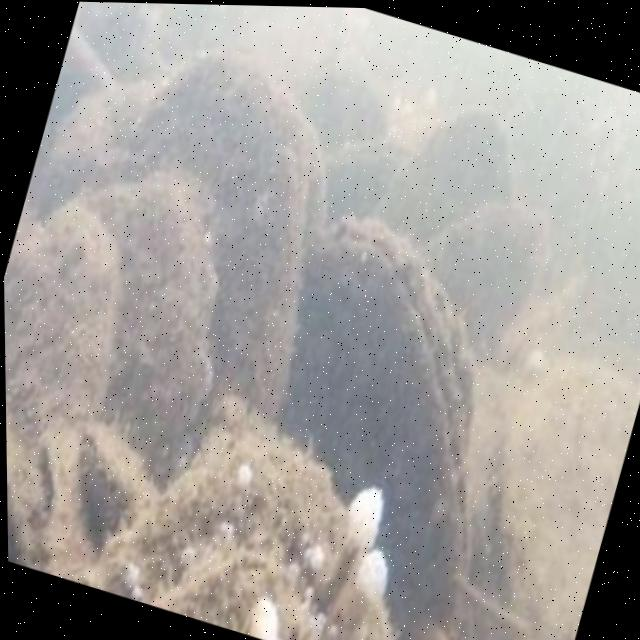Oyster-Closed: (279, 215, 474, 640)
Oyster-Indeterminate: (113, 54, 308, 456), (90, 393, 384, 640), (494, 353, 640, 640), (4, 205, 127, 462), (373, 103, 515, 246), (423, 205, 546, 345), (45, 81, 170, 217), (298, 66, 393, 149), (327, 139, 413, 226), (395, 620, 441, 640)
